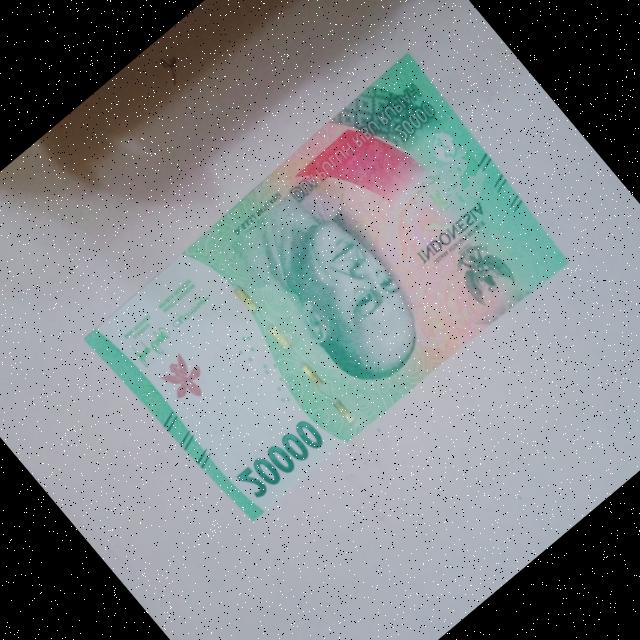20K: (69, 36, 589, 536)
